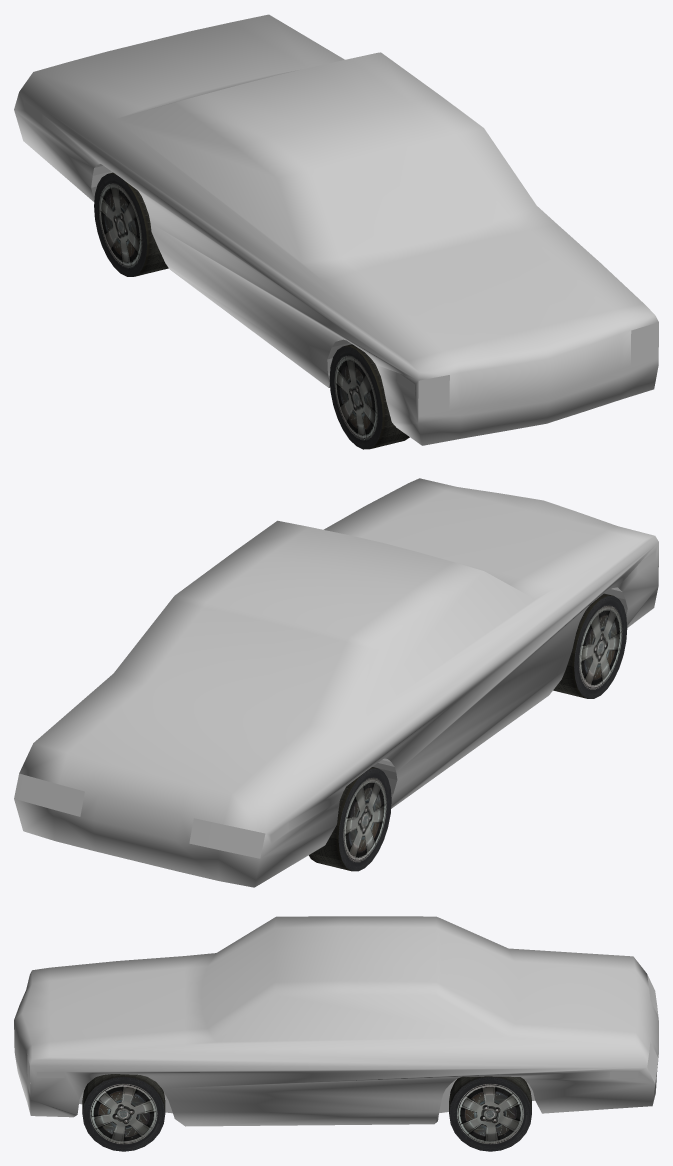
The model's file is GranFury-2.fbx.
3 renders of one model, top to bottom at view 1: azimuth 30°, elevation 25°; view 2: azimuth 150°, elevation 25°; view 3: azimuth 270°, elevation 25°, orthographic. The views are drawn at different scales.
Visible parts, largest first — view 1: Fury, FR, BR, Fury ON; view 2: Fury, BR, FR, Fury ON; view 3: Fury, FL, BL, Fury ON.
Part boxes in pixels (<box>): Fury: <box>14,14,658,445</box>; FR: <box>329,344,409,449</box>; BR: <box>94,172,168,276</box>; Fury ON: <box>24,102,658,416</box>; Fury: <box>14,478,658,887</box>; BR: <box>309,767,391,871</box>; FR: <box>553,593,627,698</box>; Fury ON: <box>14,552,658,858</box>; Fury: <box>14,916,658,1126</box>; FL: <box>82,1074,165,1151</box>; BL: <box>449,1076,531,1151</box>; Fury ON: <box>27,975,658,1092</box>.
Bounding box in the file's own units: 2.16 × 1.64 × 6.3.
